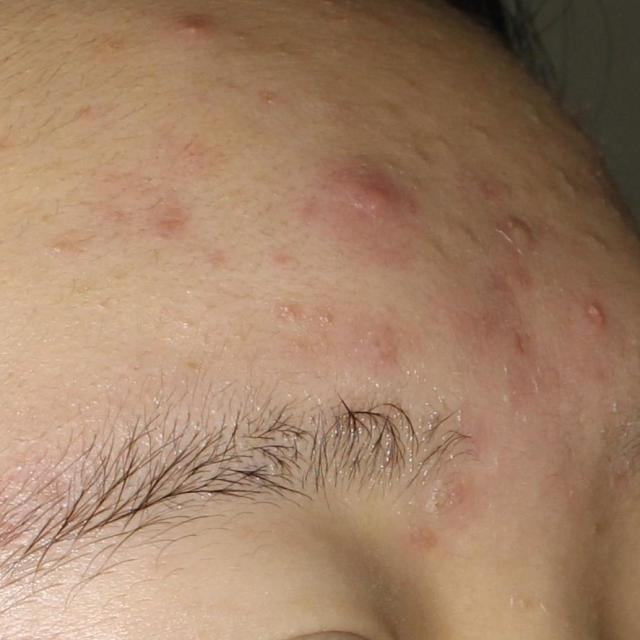nodule: (320, 166, 408, 226)
